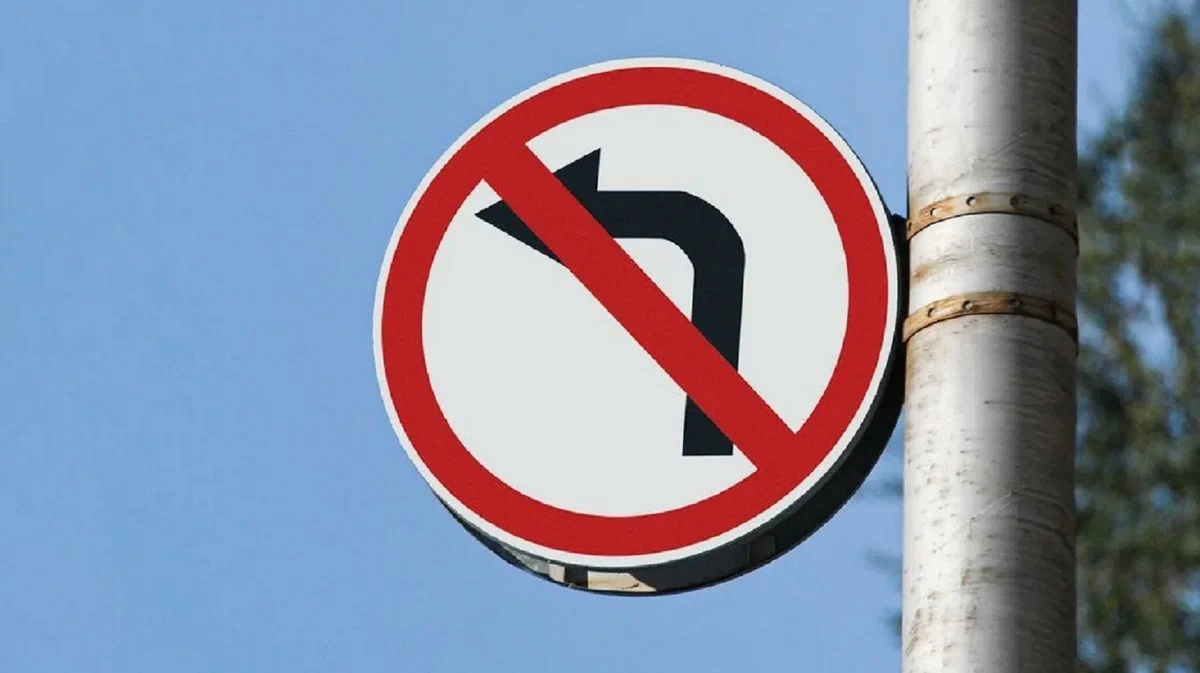sola_girilmez: (368, 59, 905, 597)
